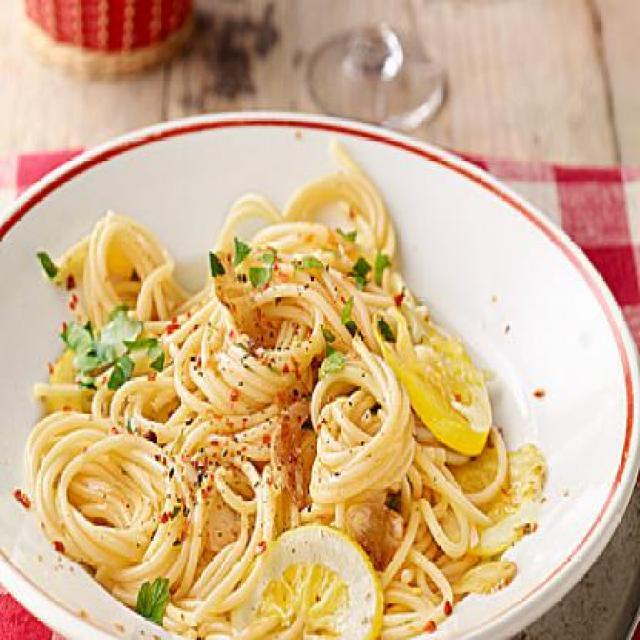Oil pasta: (60, 162, 562, 622)
